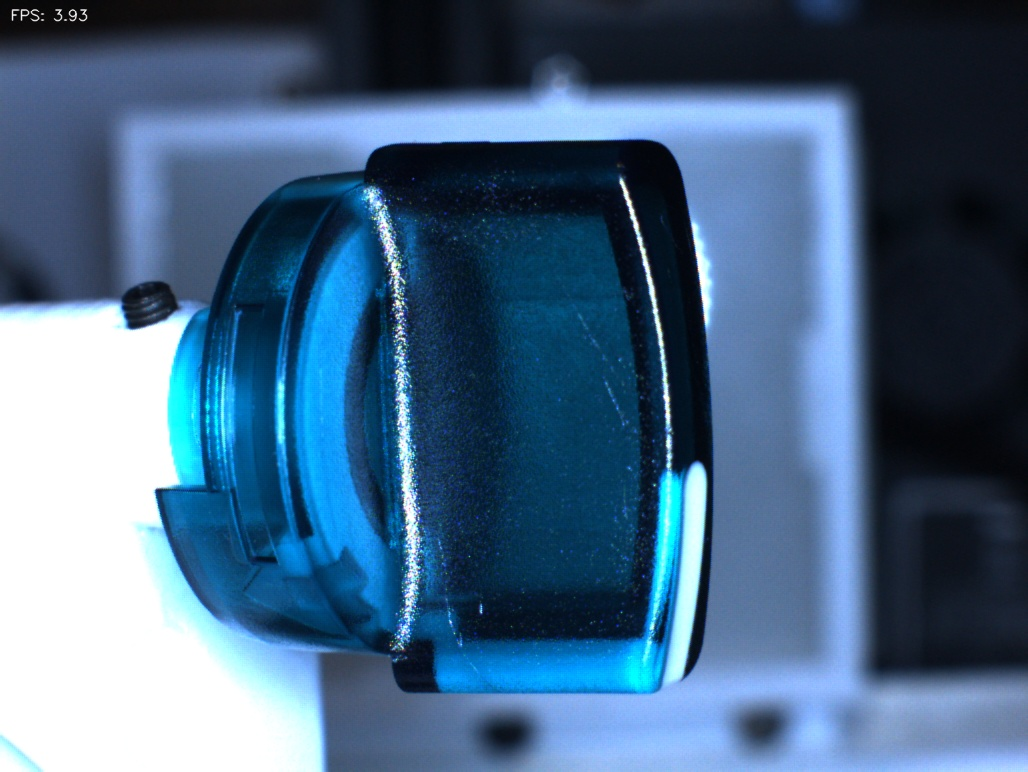Givrage: (551, 298, 653, 450)
